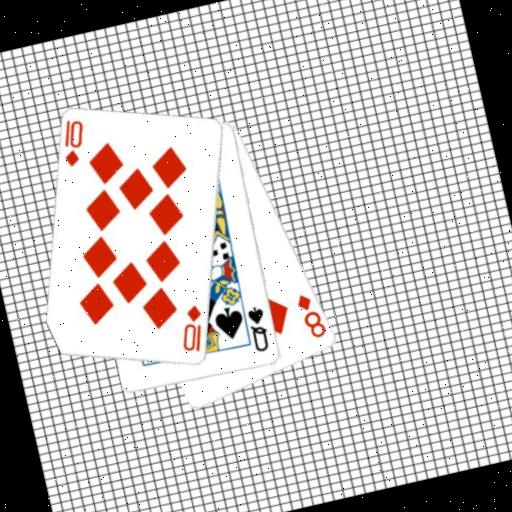10D: (53, 114, 94, 171), (171, 301, 212, 357)
8D: (292, 288, 329, 343)
QS: (243, 302, 274, 355)
